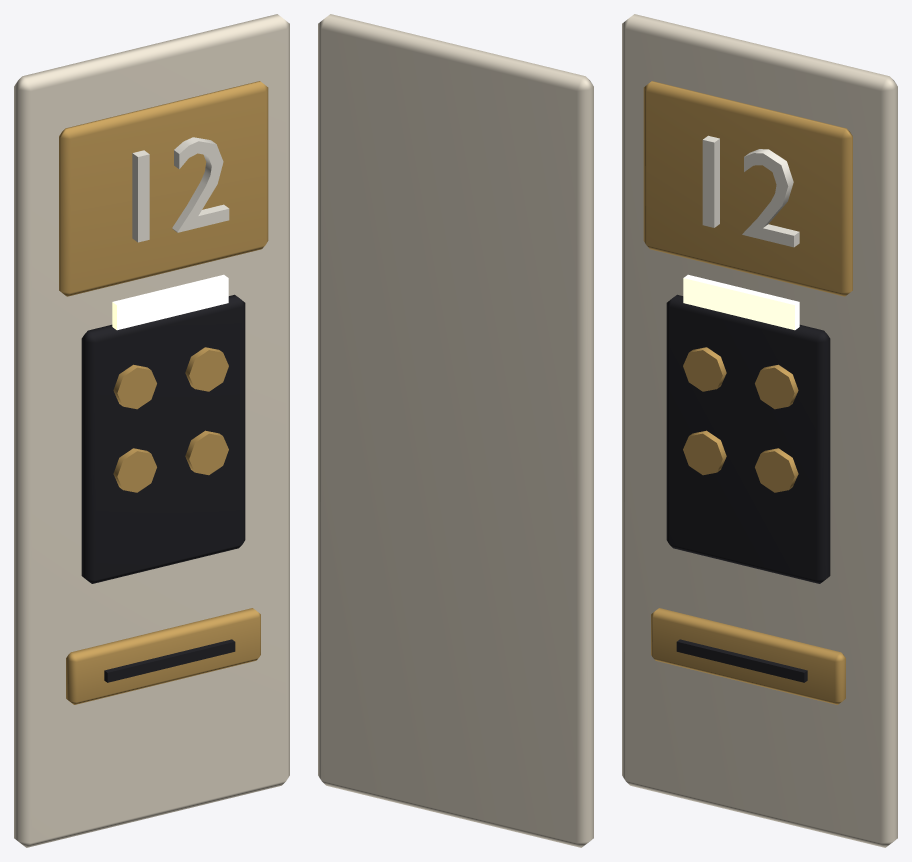
The model's file is door_plate_12.glb.
3 views of the same model, side by side, from view 1: azimuth 30°, elevation 25°; view 2: azimuth 150°, elevation 25°; view 3: azimuth 330°, elevation 25° (orthographic).
Visible parts, largest first — view 1: door_plate_12; view 2: door_plate_12; view 3: door_plate_12.
Part boxes in pixels (x1,y1,x2,y2): door_plate_12: (14, 14, 289, 847); door_plate_12: (318, 14, 593, 847); door_plate_12: (622, 14, 897, 847).
Size of the model in its own units: 0.34 by 0.92 by 0.062.
